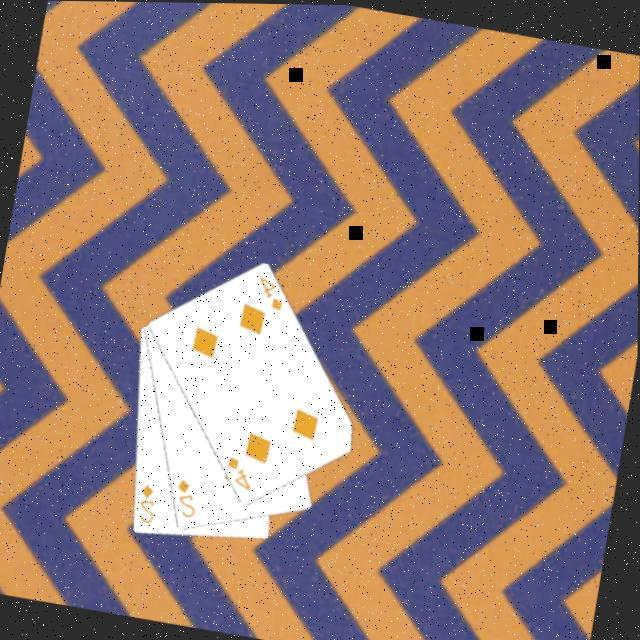2D: (168, 474, 202, 520), (131, 478, 160, 526)
4D: (218, 451, 258, 494), (250, 270, 288, 313)
